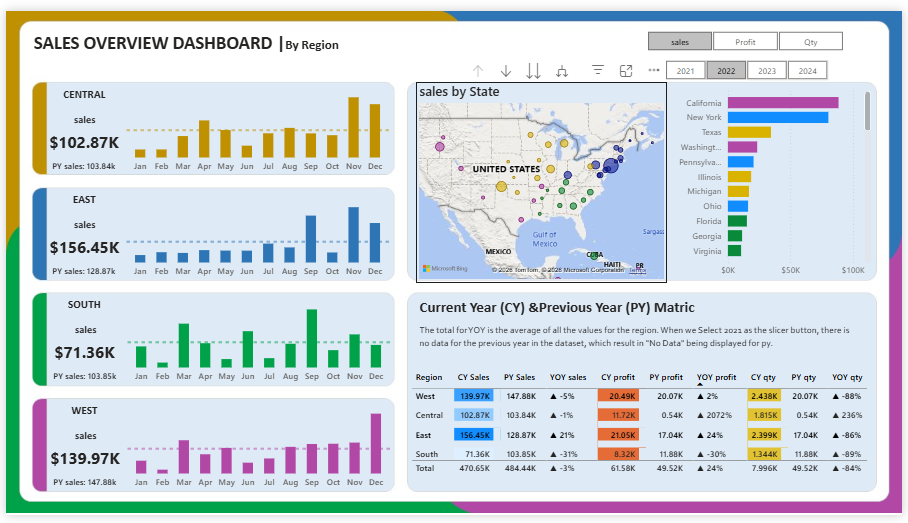

The dashboard page shown, as its layout file describes it:
{"tool":"powerbi","page":{"name":"Page 1","canvas":[1280,720],"ordinal":0},"visuals":[{"type":"textbox","box":[65,103.8,92.5,28.8],"z":0},{"type":"slicer","fields":{"Values":["select matrics.select matrics"]},"box":[892,23.1,328.2,40.5],"z":1000},{"type":"card","fields":{"Values":["Sales Data.Total sales"]},"box":[53.8,171.2,113.8,32.5],"z":2000},{"type":"slicer","fields":{"Values":["Calender table.Year"]},"box":[916.6,63.6,280.5,34.7],"z":3000},{"type":"card","fields":{"Values":["Sales Data.Dynamic Title"]},"box":[77.5,141.2,67.5,30],"z":4000},{"type":"card","fields":{"Values":["Sales Data.PY KPI SALES"]},"box":[53.8,208.8,113.8,30],"z":5000},{"type":"clusteredColumnChart","fields":{"Y":["Sales Data.Total sales"],"Category":["Calender table.Month"]},"box":[167.5,103.8,385,135],"z":6000},{"type":"textbox","box":[0,23.8,521.2,42.5],"z":7000},{"type":"textbox","box":[65,253.8,92.5,28.8],"z":8000},{"type":"card","fields":{"Values":["Sales Data.Total sales"]},"box":[53.8,321.2,115,32.5],"z":9000},{"type":"card","fields":{"Values":["Sales Data.Dynamic Title"]},"box":[77.5,291.2,67.5,30],"z":10000},{"type":"card","fields":{"Values":["Sales Data.PY KPI SALES"]},"box":[53.8,358.8,113.8,30],"z":11000},{"type":"clusteredColumnChart","fields":{"Y":["Sales Data.Total sales"],"Category":["Calender table.Month"]},"box":[167.5,253.8,385,135],"z":12000},{"type":"textbox","box":[66.2,403.8,92.5,28.8],"z":13000},{"type":"card","fields":{"Values":["Sales Data.Total sales"]},"box":[55,471.2,112.5,32.5],"z":14000},{"type":"card","fields":{"Values":["Sales Data.Dynamic Title"]},"box":[78.8,441.2,67.5,30],"z":15000},{"type":"card","fields":{"Values":["Sales Data.PY KPI SALES"]},"box":[55,508.8,113.8,30],"z":16000},{"type":"clusteredColumnChart","fields":{"Y":["Sales Data.Total sales"],"Category":["Calender table.Month"]},"box":[168.8,403.8,385,135],"z":17000},{"type":"textbox","box":[66.2,555,92.5,28.8],"z":18000},{"type":"card","fields":{"Values":["Sales Data.Total sales"]},"box":[55,622.5,113.8,32.5],"z":19000},{"type":"card","fields":{"Values":["Sales Data.Dynamic Title"]},"box":[78.8,592.5,67.5,30],"z":20000},{"type":"card","fields":{"Values":["Sales Data.PY KPI SALES"]},"box":[55,660,113.8,30],"z":21000},{"type":"clusteredColumnChart","fields":{"Y":["Sales Data.Total sales"],"Category":["Calender table.Month"]},"box":[168.8,555,385,135],"z":22000},{"type":"map","title":" sales by State","fields":{"Size":["Sales Data.CY Sales"],"Category":["Sales Data.State/Province","Sales Data.Country/Region"],"Series":["Sales Data.Region"]},"box":[585.8,101.9,358.7,286.5],"z":23000},{"type":"barChart","fields":{"Y":["Sales Data.Total sales"],"Category":["Sales Data.State/Province"],"Series":["Sales Data.Region"]},"box":[944.3,101.4,295.7,287.1],"z":24000},{"type":"tableEx","fields":{"Values":["Sales Data.Region","Sales Data.CY Sales","Sales Data.PY Sales","Sales Data.YOY sales","Sales Data.CY profit","Sales Data.PY profit","Sales Data.YOY profit","Sales Data.CY qty","Sales Data.PY qty","Sales Data.YOY qty"]},"box":[574.3,508.6,665.7,165.7],"z":25000},{"type":"textbox","box":[585.7,404.3,425.7,37.1],"z":26000},{"type":"textbox","box":[585.7,441.4,634.3,48.6],"z":27000}]}

Visuals, with their boxes in screenshot pixels (x1, y1, x2, y2), scaled from the page's 1280x720 canvas onto the 908x523 screenshot:
textbox: x1=46, y1=75, x2=112, y2=96
slicer - select matrics.select matrics: x1=633, y1=17, x2=866, y2=46
card - Sales Data.Total sales: x1=38, y1=124, x2=119, y2=148
slicer - Calender table.Year: x1=650, y1=46, x2=849, y2=71
card - Sales Data.Dynamic Title: x1=55, y1=103, x2=103, y2=124
card - Sales Data.PY KPI SALES: x1=38, y1=152, x2=119, y2=173
clusteredColumnChart - Sales Data.Total sales x Calender table.Month: x1=119, y1=75, x2=392, y2=173
textbox: x1=0, y1=17, x2=370, y2=48
textbox: x1=46, y1=184, x2=112, y2=205
card - Sales Data.Total sales: x1=38, y1=233, x2=120, y2=257
card - Sales Data.Dynamic Title: x1=55, y1=212, x2=103, y2=233
card - Sales Data.PY KPI SALES: x1=38, y1=261, x2=119, y2=282
clusteredColumnChart - Sales Data.Total sales x Calender table.Month: x1=119, y1=184, x2=392, y2=282
textbox: x1=47, y1=293, x2=113, y2=314
card - Sales Data.Total sales: x1=39, y1=342, x2=119, y2=366
card - Sales Data.Dynamic Title: x1=56, y1=320, x2=104, y2=342
card - Sales Data.PY KPI SALES: x1=39, y1=370, x2=120, y2=391
clusteredColumnChart - Sales Data.Total sales x Calender table.Month: x1=120, y1=293, x2=393, y2=391
textbox: x1=47, y1=403, x2=113, y2=424
card - Sales Data.Total sales: x1=39, y1=452, x2=120, y2=476
card - Sales Data.Dynamic Title: x1=56, y1=430, x2=104, y2=452
card - Sales Data.PY KPI SALES: x1=39, y1=479, x2=120, y2=501
clusteredColumnChart - Sales Data.Total sales x Calender table.Month: x1=120, y1=403, x2=393, y2=501
" sales by State" map: x1=416, y1=74, x2=670, y2=282
barChart - Sales Data.Total sales x Sales Data.State/Province: x1=670, y1=74, x2=880, y2=282
tableEx - Sales Data.Region x Sales Data.CY Sales: x1=407, y1=369, x2=880, y2=490
textbox: x1=415, y1=294, x2=717, y2=321
textbox: x1=415, y1=321, x2=865, y2=356
